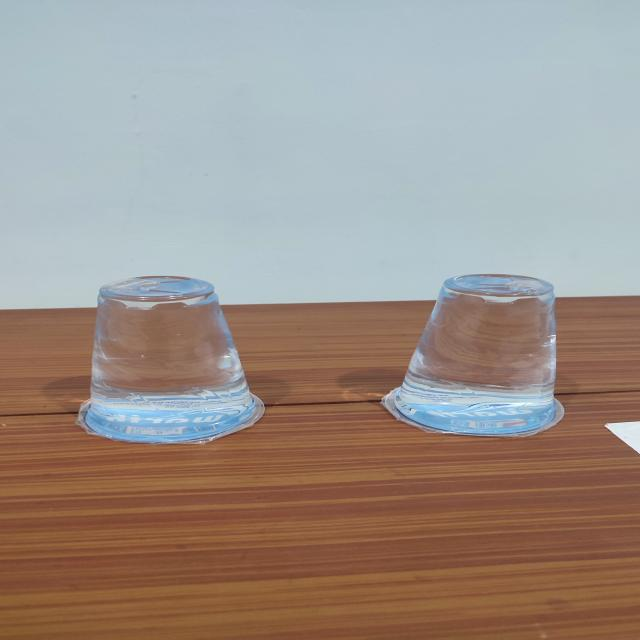air gelas: (72, 272, 286, 446), (378, 266, 587, 440)
